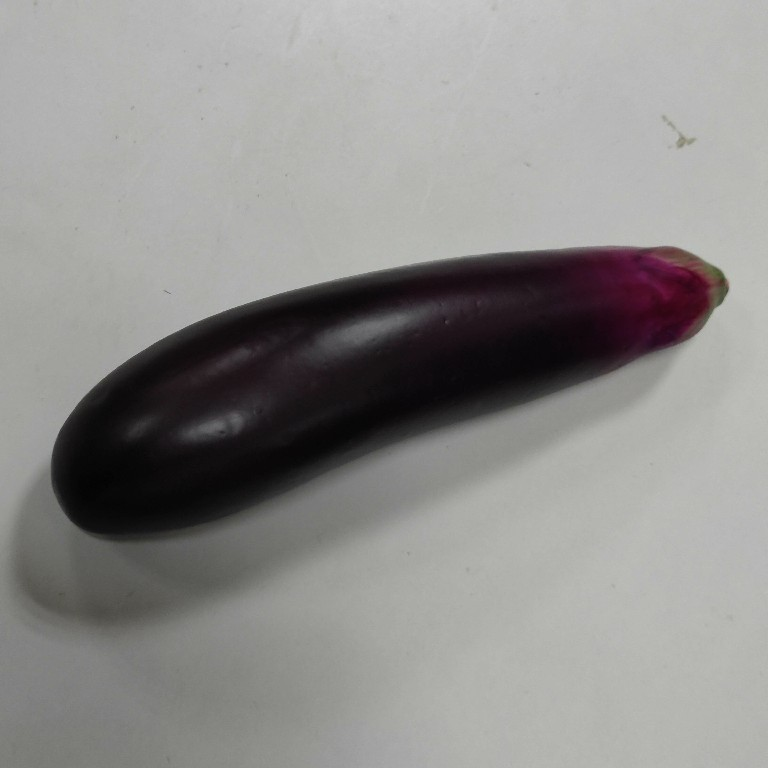fruit_eggplant: (47, 242, 732, 545)
